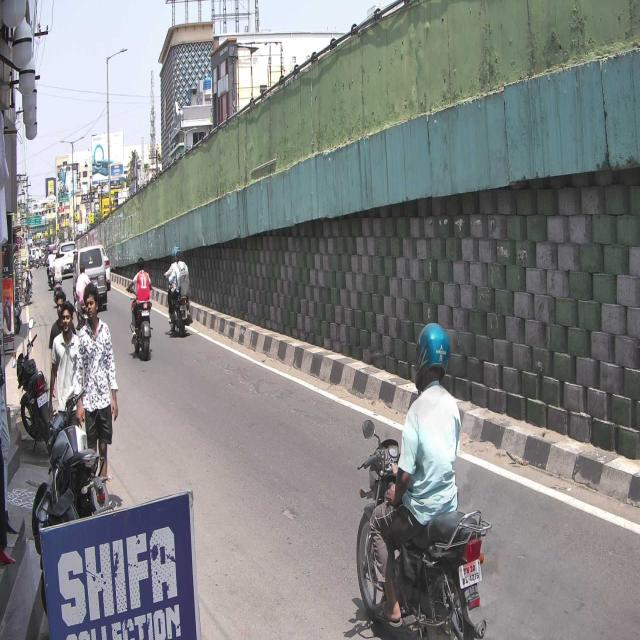single_rider: (356, 321, 492, 640)
